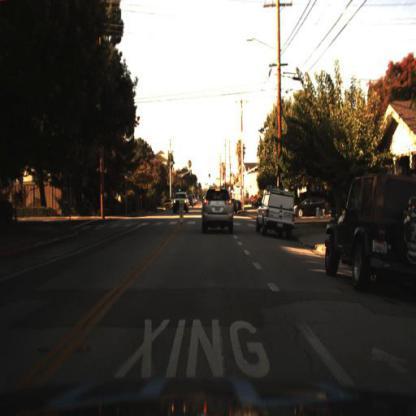car: (325, 174, 416, 290), (254, 176, 301, 249), (202, 177, 238, 239), (291, 188, 333, 226), (293, 191, 331, 220), (172, 192, 189, 217), (159, 193, 174, 218)
